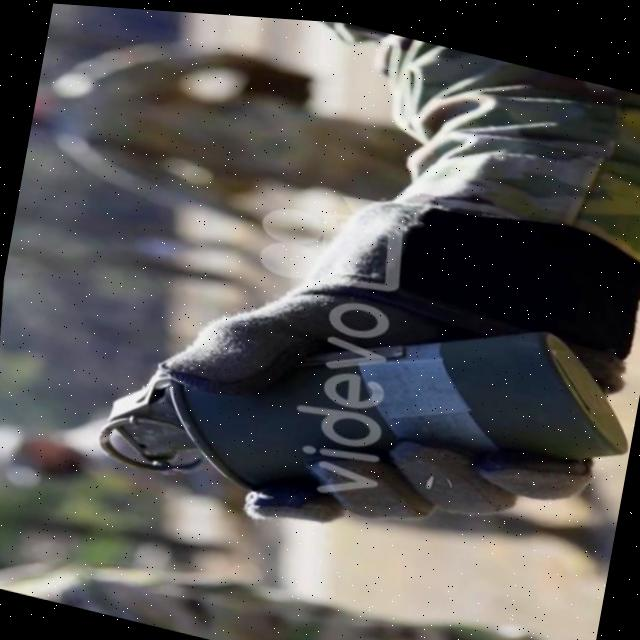grenade: (66, 211, 640, 594)
